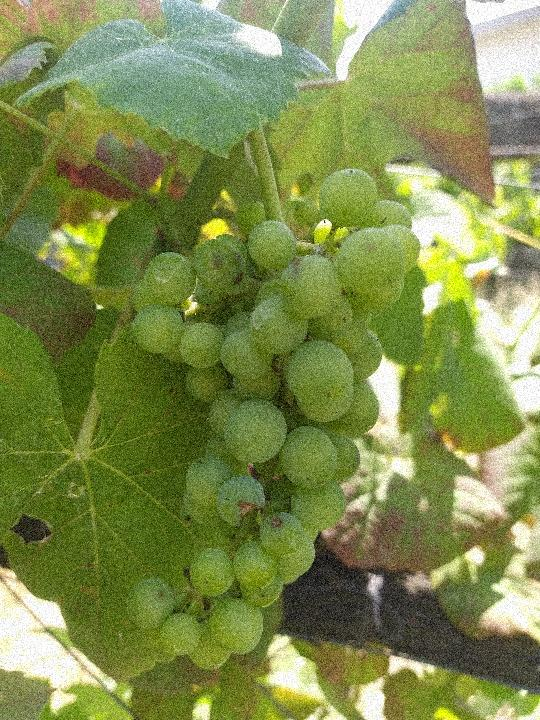grape: (120, 160, 425, 674)
